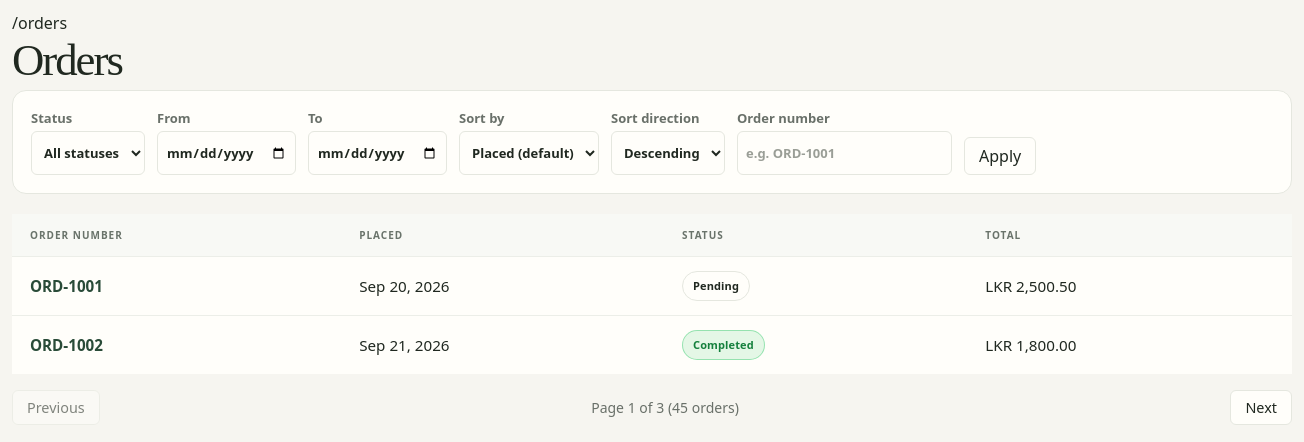
Test: OrdersListPage › paginates with previous/next controls
The image size is (1304, 442).
expect the text "Page 1 of 3 (45 orders)" is shown: met, box x1=591 y1=398 x2=739 y2=417
expect the button "Previous" is disabled: met, box x1=12 y1=390 x2=100 y2=425
Click the button "Next". click: [1261, 407]
box: x1=1230 y1=390 x2=1292 y2=425
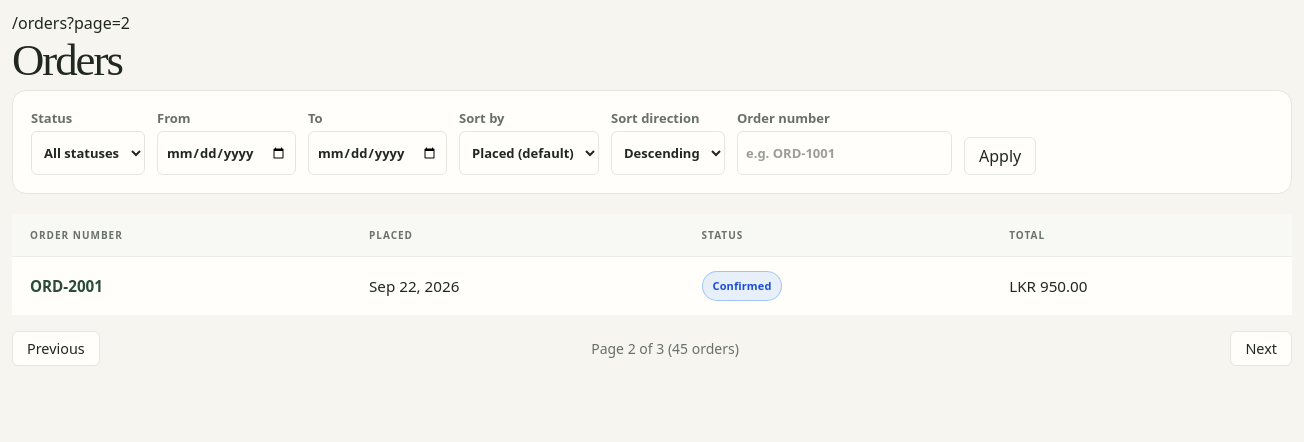
expect the link "ORD-2001" is shown: met, box x1=30 y1=276 x2=103 y2=296
expect the text "Page 2 of 3 (45 orders)" is shown: met, box x1=591 y1=339 x2=739 y2=358
